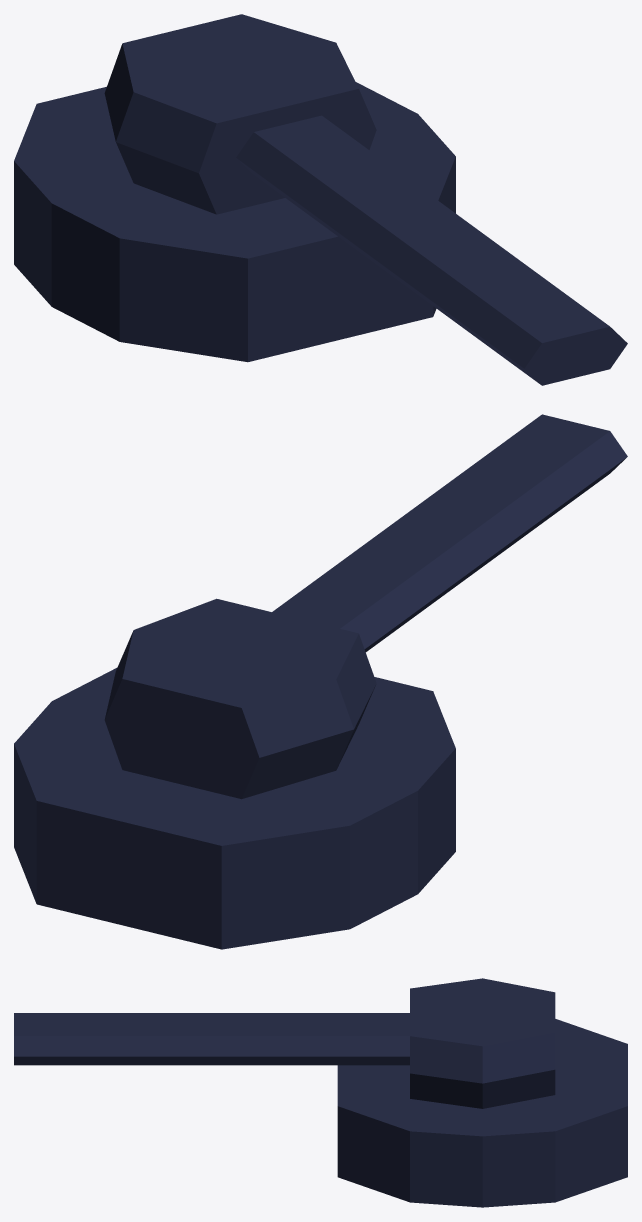
Rendered from Turret.fbx.
3 views of the same model, one above another, from view 1: azimuth 30°, elevation 25°; view 2: azimuth 150°, elevation 25°; view 3: azimuth 270°, elevation 25° (orthographic). The views are drawn at different scales.
Visible parts, largest first — view 1: Cube; view 2: Cube; view 3: Cube.
Boxes of the visible parts, x1,y1,x2,y2 form: Cube: (14, 14, 627, 385); Cube: (14, 414, 627, 949); Cube: (14, 978, 627, 1207).
Size of the model in its own units: 102 by 215 by 51.74.
